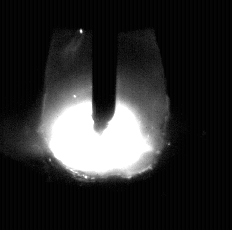arame: (93, 0, 117, 132)
poca: (39, 0, 167, 230)
